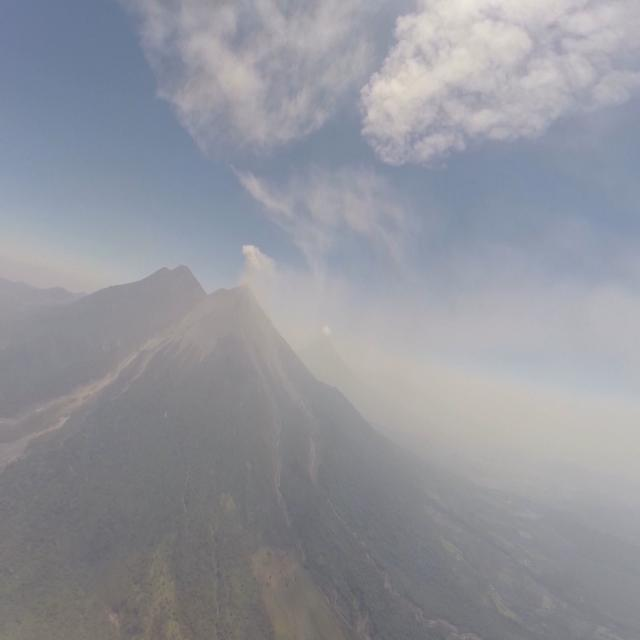Plume: (242, 240, 276, 286)
Summit: (235, 280, 257, 292)
